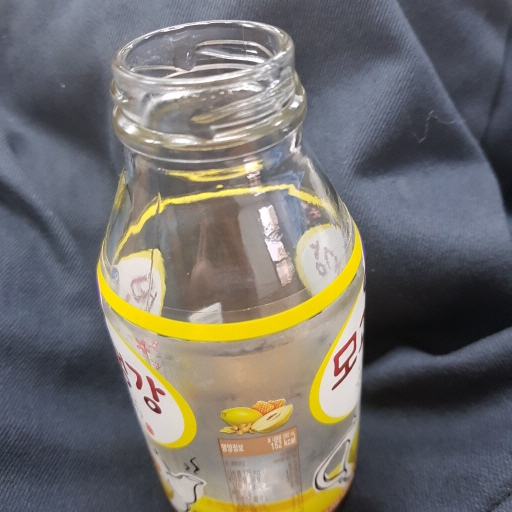Glass_4: (96, 21, 374, 512)
